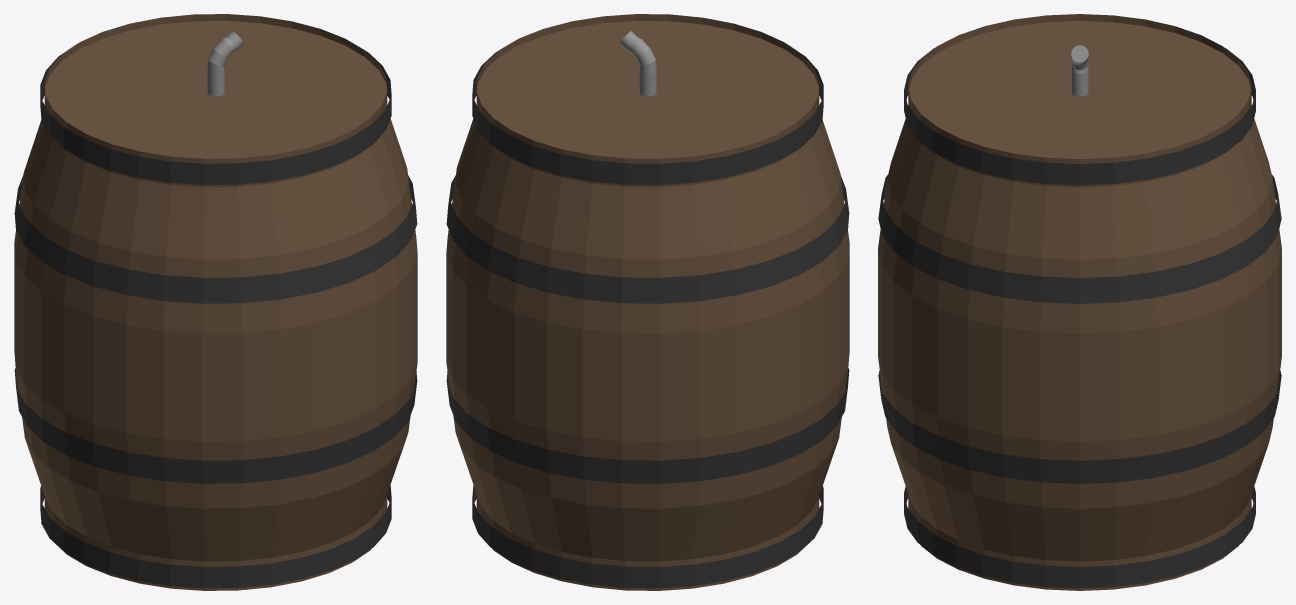
File: barrel.fbx
3 views of the same model, side by side, from view 1: azimuth 30°, elevation 25°; view 2: azimuth 150°, elevation 25°; view 3: azimuth 270°, elevation 25° (orthographic).
Visible parts, largest first — view 1: barrel; view 2: barrel; view 3: barrel.
Part boxes in pixels (left/top/right/bottom): barrel: left=14, top=14, right=417, bottom=590; barrel: left=446, top=14, right=849, bottom=590; barrel: left=878, top=14, right=1281, bottom=590.
Size of the model in its own units: 235 by 310 by 235.
